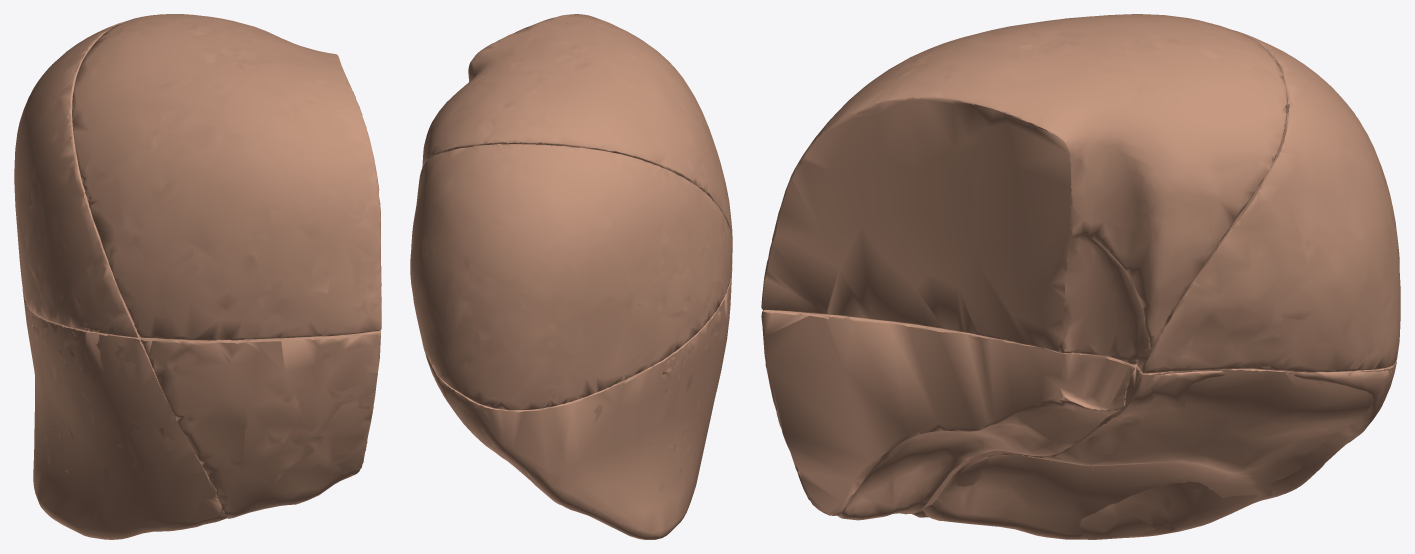
The model's file is lobo_direito.glb.
The picture shows the model from 3 angles, left to right: view 1: azimuth 30°, elevation 25°; view 2: azimuth 150°, elevation 25°; view 3: azimuth 270°, elevation 25°; orthographic projection. The views are drawn at different scales.
Visible parts, largest first — view 1: lobo_direito; view 2: lobo_direito; view 3: lobo_direito.
Boxes of the visible parts, x1,y1,x2,y2 form: lobo_direito: [14, 14, 381, 539]; lobo_direito: [410, 14, 732, 539]; lobo_direito: [761, 14, 1400, 539].
Size of the model in its own units: 0.0975 by 0.1552 by 0.1554.
